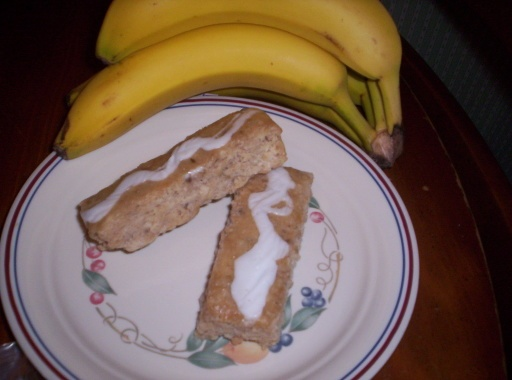background: (42, 0, 324, 102), (62, 64, 252, 205)
